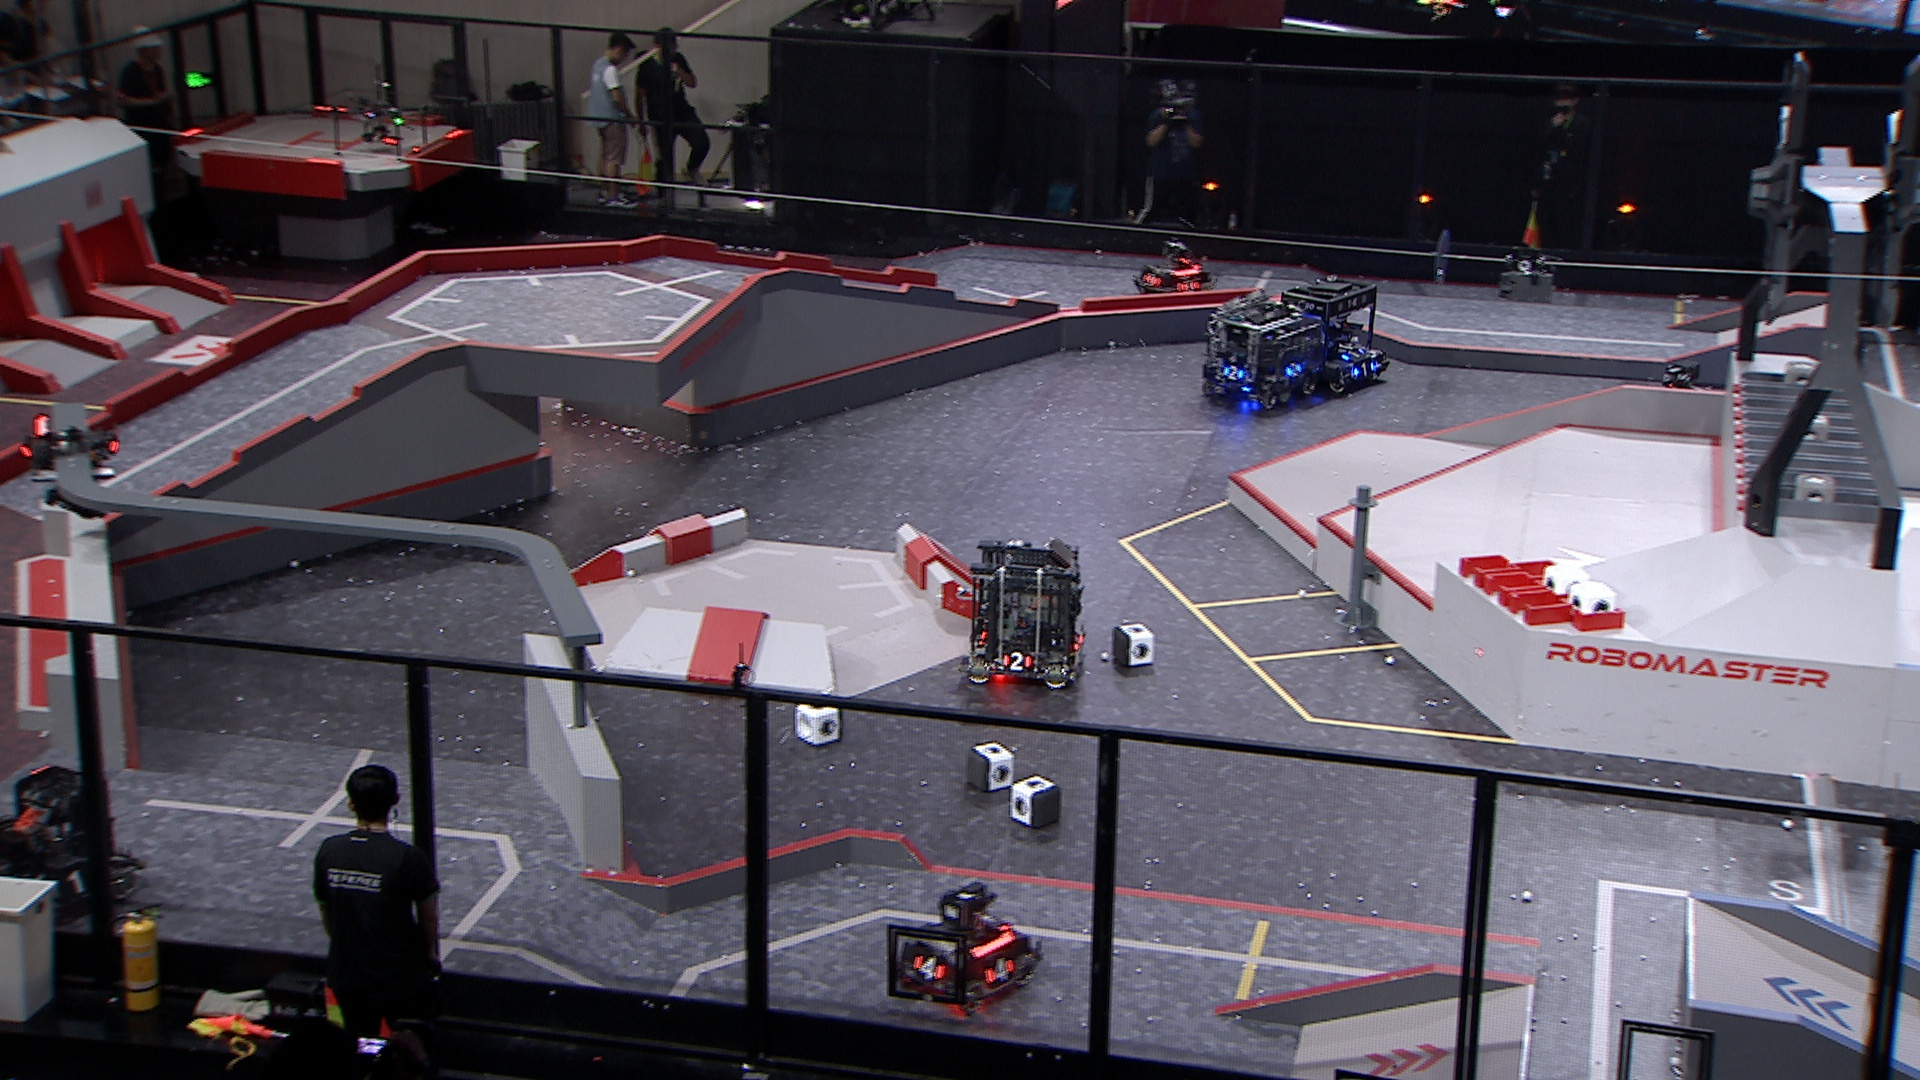armor: (47, 869, 88, 898), (984, 955, 1015, 986), (913, 953, 945, 982), (1004, 647, 1033, 674), (1352, 363, 1378, 380), (1340, 345, 1367, 361), (1221, 367, 1247, 382), (1283, 363, 1304, 381), (1178, 278, 1200, 294), (1145, 272, 1162, 289)
car: (891, 882, 1044, 1011), (963, 537, 1088, 694), (1201, 291, 1324, 410), (1278, 277, 1393, 396), (1633, 357, 1731, 436), (1133, 239, 1215, 301)
watcher: (18, 413, 120, 520)
